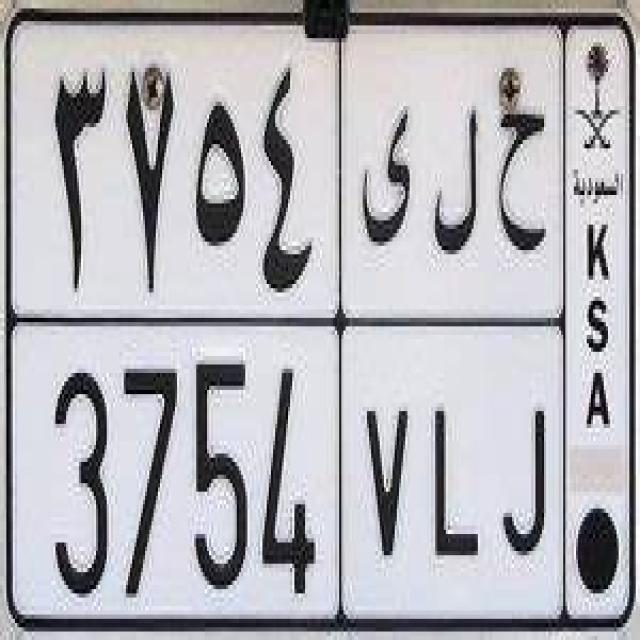license_plate: (43, 355, 551, 595)
